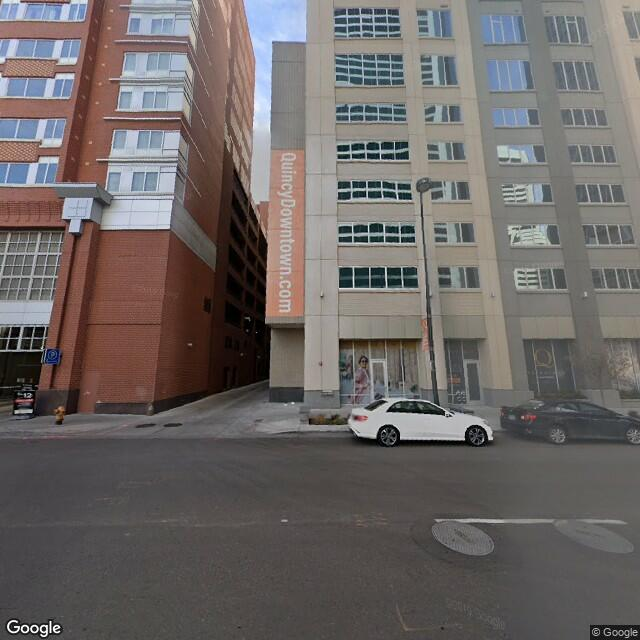lamp: (412, 176, 449, 399)
